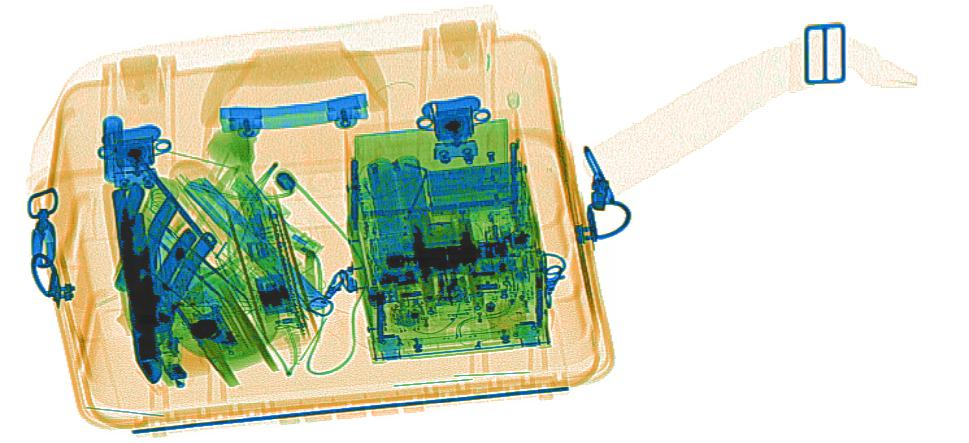battery: (367, 153, 431, 242), (425, 162, 515, 197)
knife: (183, 176, 327, 313)
